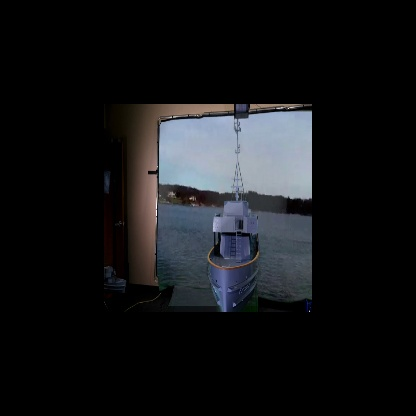YP689: (207, 119, 261, 312)
